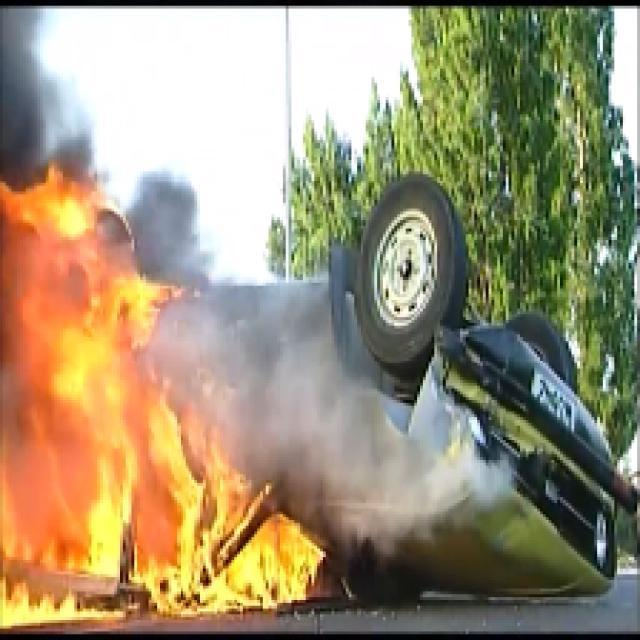Fire: (3, 168, 323, 634)
Smoke: (252, 312, 419, 522), (3, 2, 63, 168)
